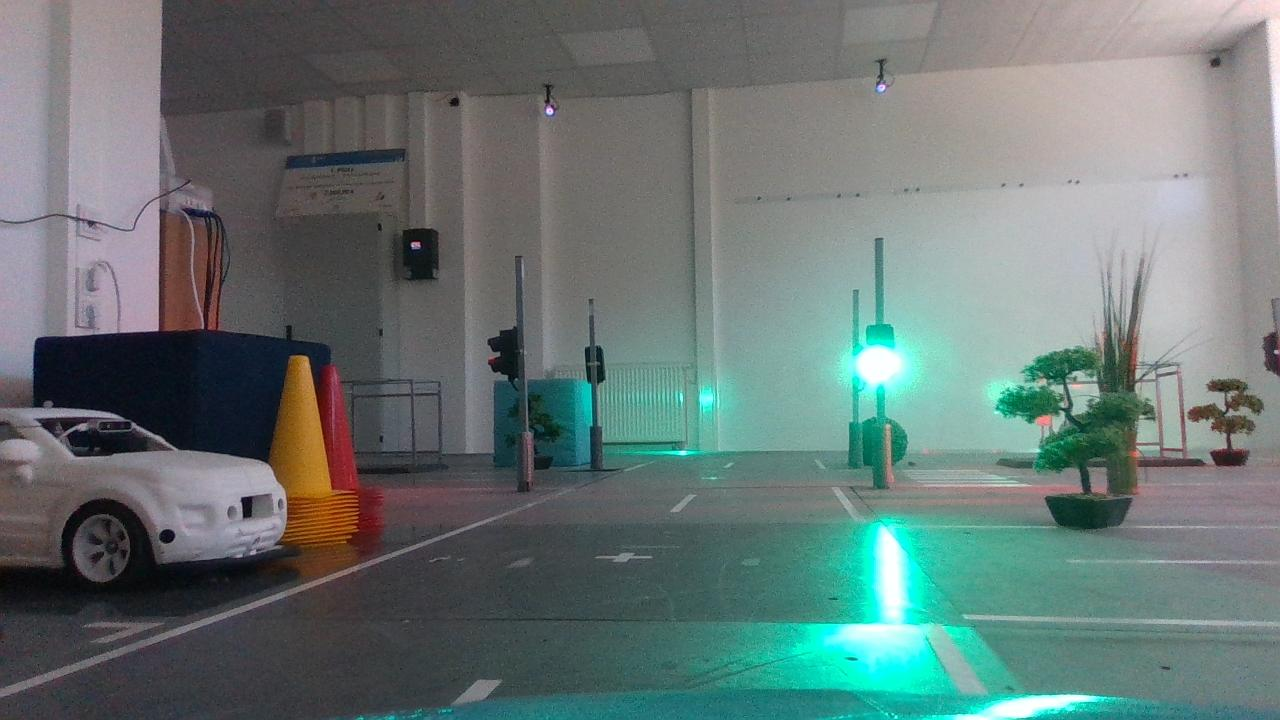traffic_light_green: (854, 316, 907, 393)
